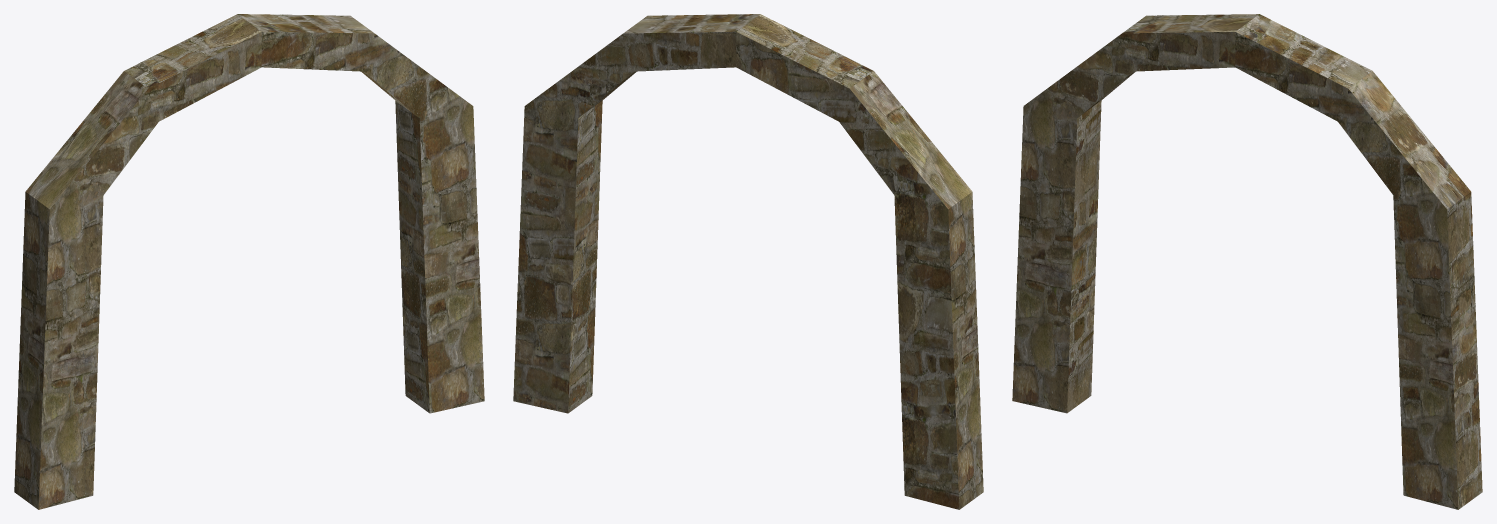
File: DoorBlock.fbx
The picture shows the model from 3 angles, left to right: view 1: azimuth 30°, elevation 25°; view 2: azimuth 150°, elevation 25°; view 3: azimuth 330°, elevation 25°; orthographic projection.
Parts seen in each view (by area): view 1: DoorBlock; view 2: DoorBlock; view 3: DoorBlock.
Boxes of the visible parts, box(x1,y1,x2,y2) form: DoorBlock: box(14, 14, 484, 509); DoorBlock: box(513, 14, 983, 509); DoorBlock: box(1012, 14, 1482, 509).
Size of the model in its own units: 2.23 by 2.03 by 0.2106.
1 material, 1 textured.
